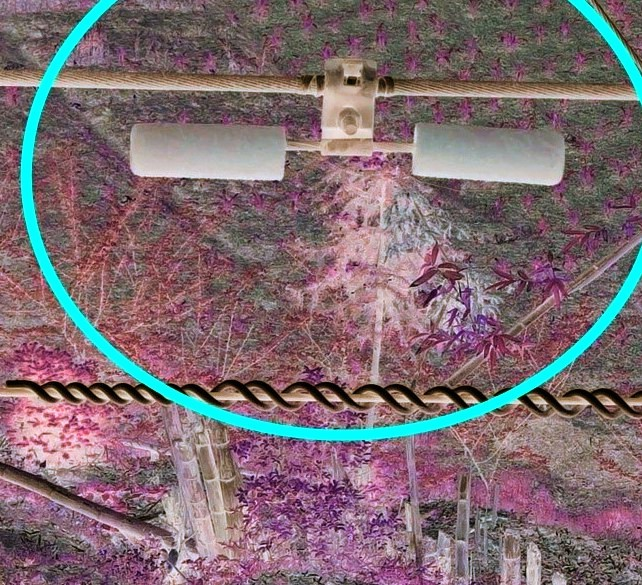Shockproof hammer: (105, 48, 575, 191)
